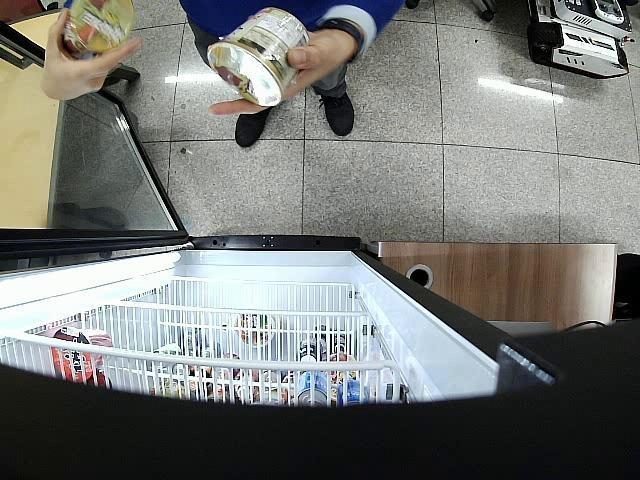04_chapagetti_S: (208, 6, 310, 106), (61, 0, 137, 60)
